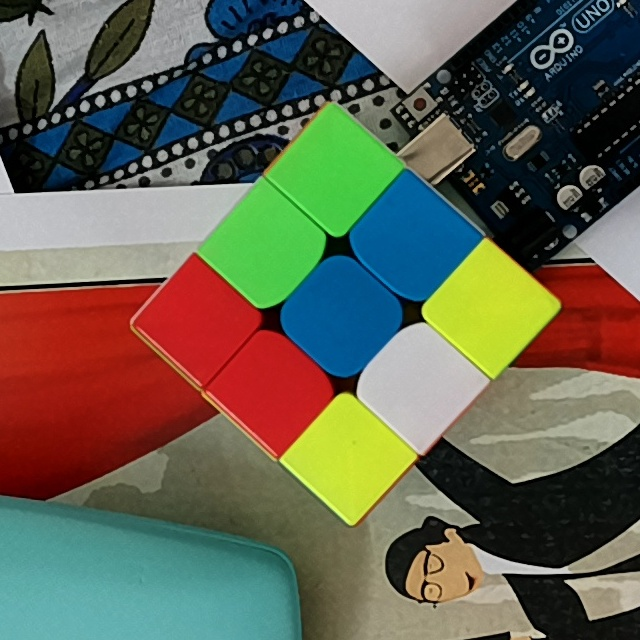tile: (305, 281, 376, 349), (453, 277, 528, 340), (303, 136, 370, 206), (381, 351, 452, 417), (312, 426, 382, 491), (378, 206, 450, 268), (231, 215, 297, 282), (243, 356, 304, 423), (167, 290, 233, 350)
